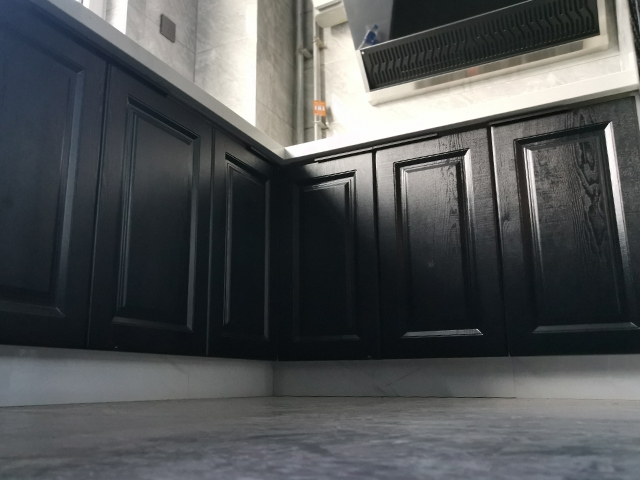cabinet: (1, 1, 294, 408), (284, 89, 640, 403)
